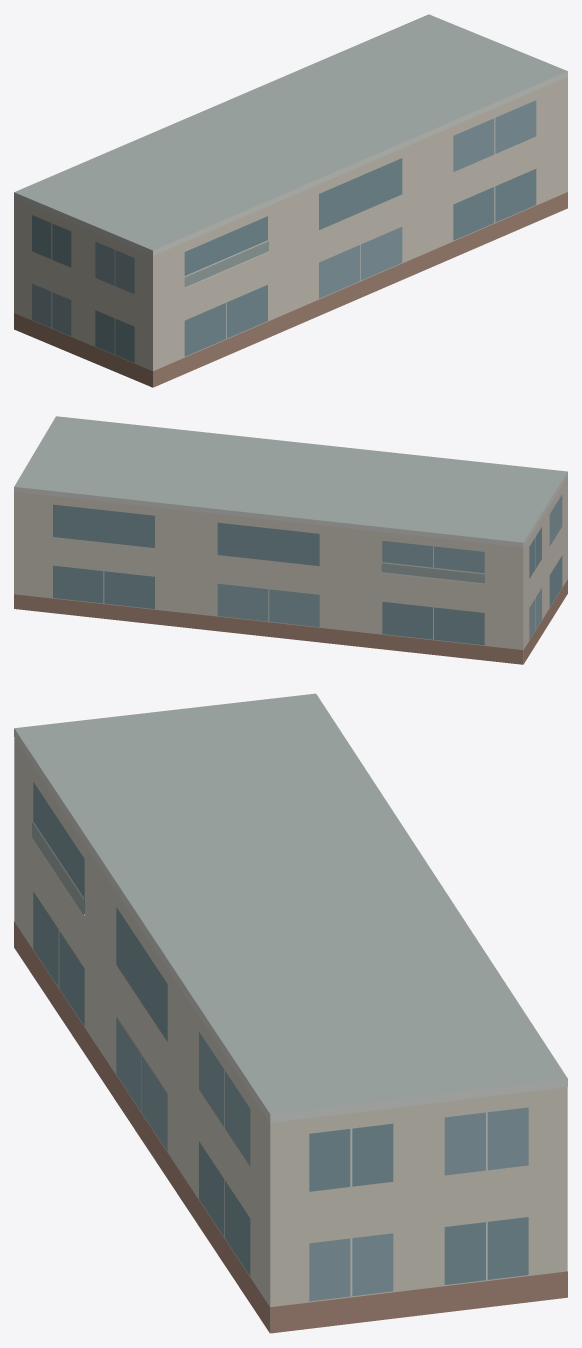
File: survey-upis-32525105.glb
The picture shows the model from 3 angles, top to bottom: view 1: azimuth 30°, elevation 25°; view 2: azimuth 150°, elevation 25°; view 3: azimuth 270°, elevation 25°; orthographic projection. The views are drawn at different scales.
Parts seen in each view (by area): view 1: survey-upis-32525105.tmp; view 2: survey-upis-32525105.tmp; view 3: survey-upis-32525105.tmp.
Part boxes in pixels (left/top/right/bottom): survey-upis-32525105.tmp: left=14, top=14, right=567, bottom=387; survey-upis-32525105.tmp: left=14, top=416, right=567, bottom=664; survey-upis-32525105.tmp: left=14, top=693, right=567, bottom=1333.
Bounding box in the file's own units: 25.12 × 6.1 × 13.97.
